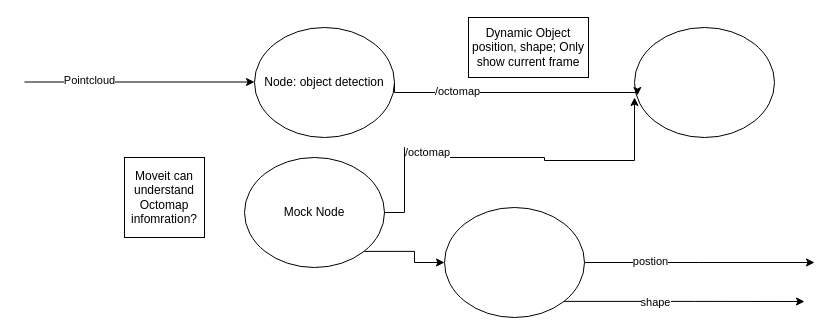
Some shapes in this 840 by 335 pixel diagram are drawn without their labels. The shapes that lost their labels are listed below. From the top down, each one's centre as x and y in pixels, then its label:
At (x=704, y=82): "rviz2".
At (x=514, y=262): "moveit".
